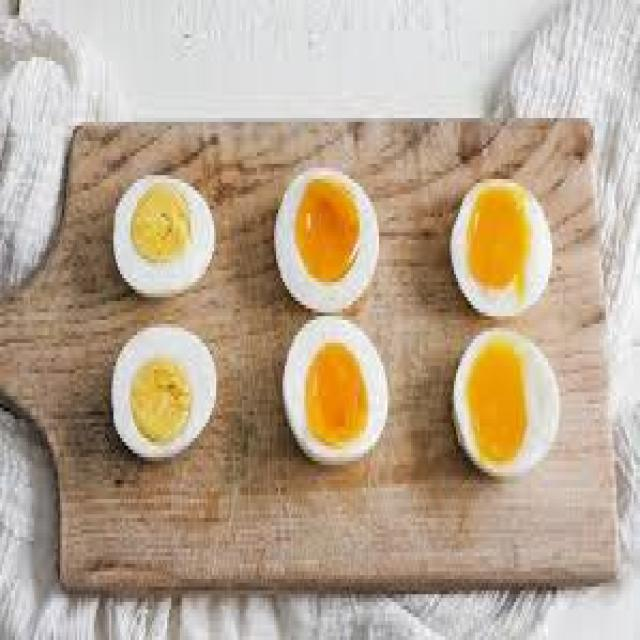boiled egg: (89, 146, 560, 513)
